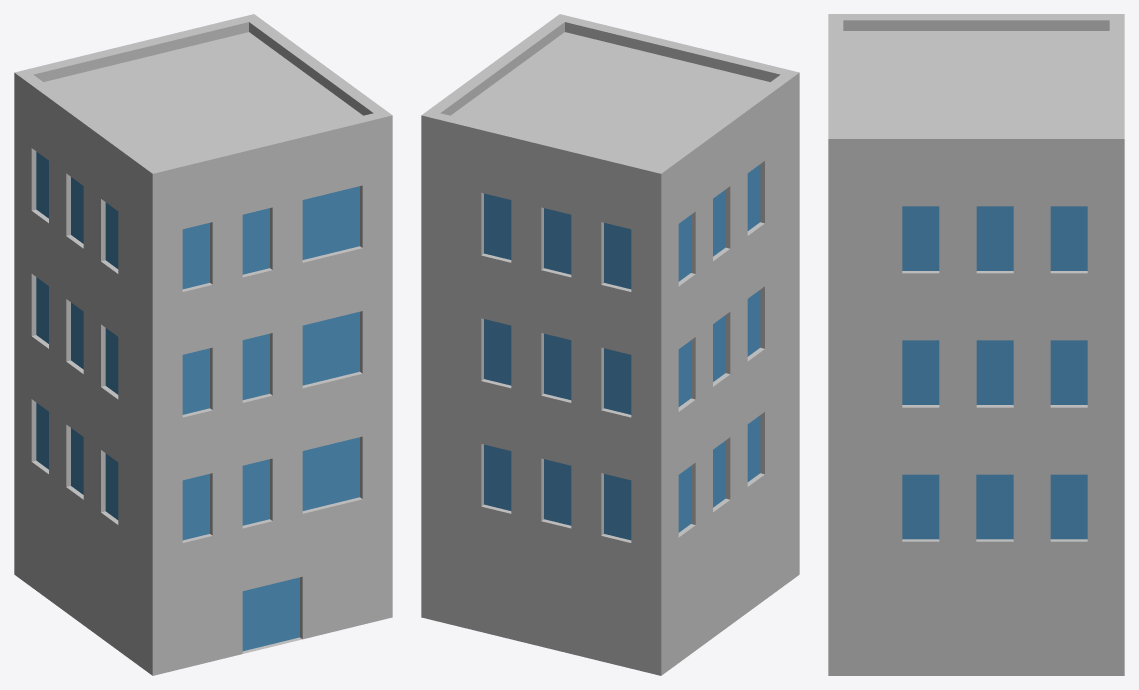
File: BudynekNr1.fbx
The picture shows the model from 3 angles, left to right: view 1: azimuth 30°, elevation 25°; view 2: azimuth 150°, elevation 25°; view 3: azimuth 270°, elevation 25°; orthographic projection. The views are drawn at different scales.
Parts seen in each view (by area): view 1: Cube; view 2: Cube; view 3: Cube.
Part boxes in pixels (bbox=[...]): Cube: bbox=[14, 14, 392, 675]; Cube: bbox=[421, 14, 799, 675]; Cube: bbox=[828, 14, 1124, 675].
Bounding box in the file's own units: 100 × 200 × 100.
